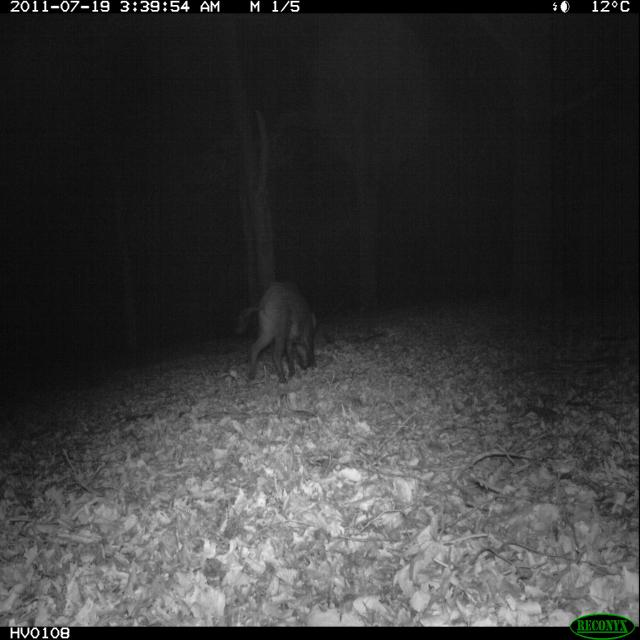boar: (237, 270, 337, 393)
